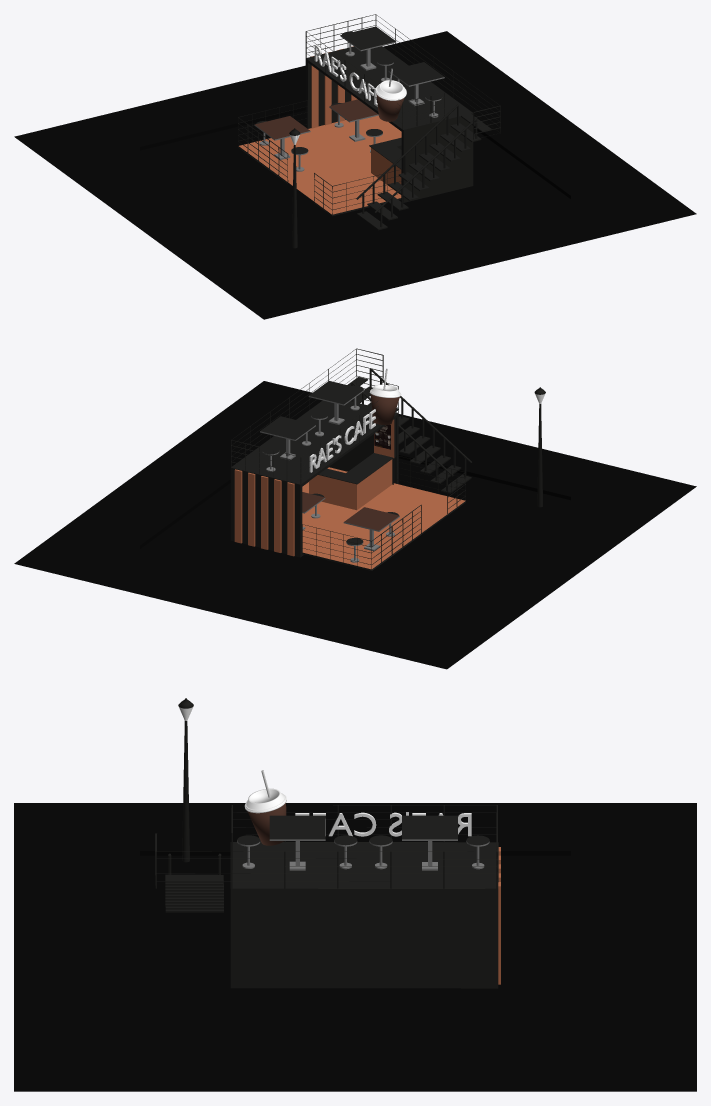
Rendered from main.fbx.
3 views of the same model, one above another, from view 1: azimuth 30°, elevation 25°; view 2: azimuth 150°, elevation 25°; view 3: azimuth 270°, elevation 25° (orthographic). The views are drawn at different scales.
Visible parts, largest first — view 1: Ground, Store, Steps, Table.001, TerraceGrill, Table, StoreGrill2, StoreGrill, StepPole, Cup.001, Text, Handle (+1 smaller); view 2: Ground, Store, StoreGrill, Table.001, TerraceGrill, StoreGrill2, Table, Steps, Cup.001, Text, StepPole, StreetLight (+1 smaller); view 3: Ground, Store, Table.001, TerraceGrill, Steps, Cup.001, StreetLight, Text.
Part boxes in pixels (x1,y1,x2,y2): Ground: (14, 31, 696, 319); Store: (238, 46, 473, 215); Steps: (357, 113, 491, 230); Table.001: (340, 26, 444, 117); TerraceGrill: (305, 14, 500, 139); Table: (254, 99, 382, 171); StoreGrill2: (238, 100, 401, 216); StoreGrill: (311, 46, 357, 128); StepPole: (362, 106, 477, 227); Cup.001: (375, 80, 406, 121); Text: (314, 44, 377, 106); Handle: (356, 104, 476, 212); Ground: (14, 381, 696, 669); Store: (230, 400, 465, 570); StoreGrill: (234, 469, 294, 556); Table.001: (260, 381, 364, 471); TerraceGrill: (231, 348, 398, 484); StoreGrill2: (302, 455, 465, 570); Table: (302, 492, 399, 562); Steps: (347, 377, 471, 493); Cup.001: (369, 384, 401, 425); Text: (309, 409, 375, 472); StepPole: (351, 369, 466, 490); StreetLight: (534, 387, 545, 507); Ground: (14, 803, 696, 1091); Store: (230, 842, 498, 988); Table.001: (237, 815, 489, 870); TerraceGrill: (155, 805, 497, 888); Steps: (165, 874, 223, 912); Cup.001: (244, 788, 286, 845); StreetLight: (178, 698, 193, 862); Text: (295, 812, 471, 836).
Bounding box in the file's own units: 1242 × 358 × 1242.
